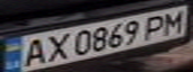0: (69, 27, 93, 56)
6: (106, 20, 127, 50)
8: (90, 24, 112, 53)
9: (121, 17, 148, 46)
A: (15, 36, 51, 69)
M: (157, 8, 190, 36)
P: (139, 11, 172, 40)
X: (39, 30, 72, 63)
